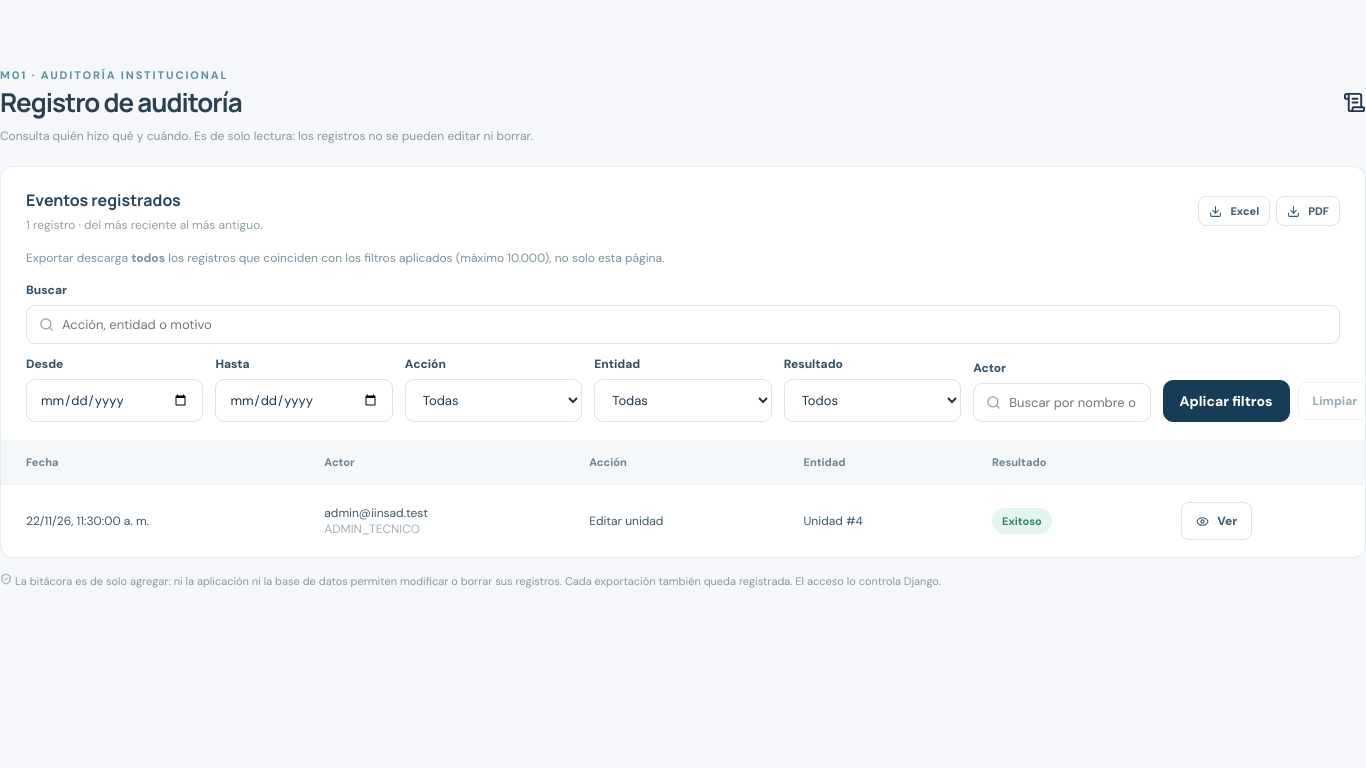
Test: AuditPage › el detalle muestra qué cambió (antes/después), el motivo y el origen
Click the button with aria-label "Ver detalle del registro 20" at (1217, 521), box [1181,502,1252,540]
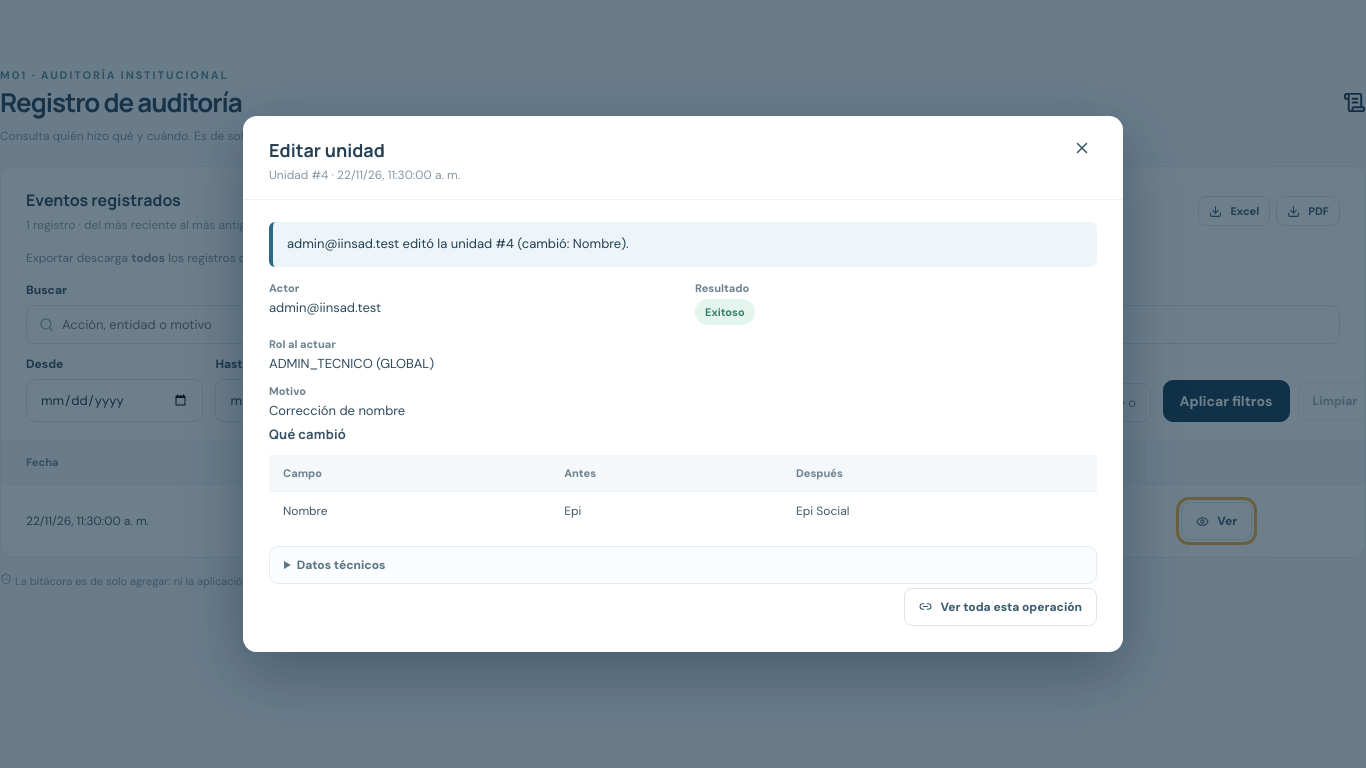
expect the heading "Editar unidad" is shown: met, box [269,138,385,162]
expect the text "Corrección de nombre" is shown: met, box [269,402,405,419]
expect the text "Epi" is shown: met, box [550,491,782,530]
